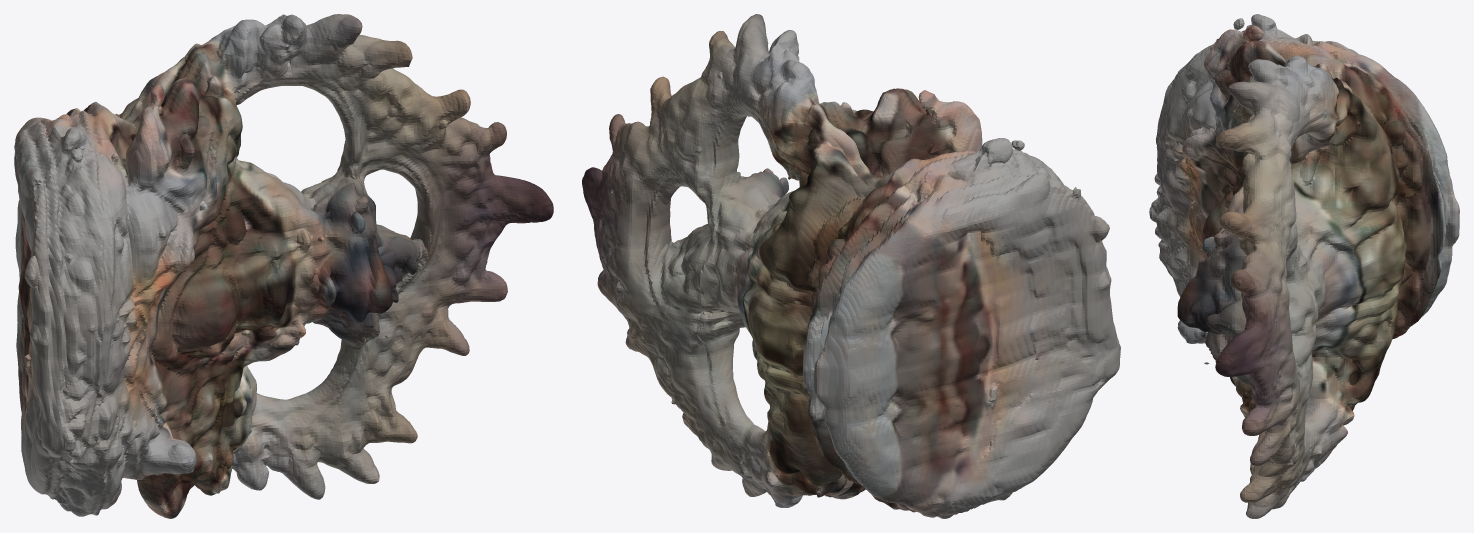
3 views of the same model, side by side, from view 1: azimuth 30°, elevation 25°; view 2: azimuth 150°, elevation 25°; view 3: azimuth 270°, elevation 25° (orthographic). The views are drawn at different scales.
Parts seen in each view (by area): view 1: geometry_0; view 2: geometry_0; view 3: geometry_0.
Part boxes in pixels (x1=…): geometry_0: x1=14, y1=14, x2=553, y2=518; geometry_0: x1=582, y1=14, x2=1120, y2=518; geometry_0: x1=1149, y1=14, x2=1459, y2=518.
Size of the model in its own units: 1 by 0.8746 by 0.5631.
